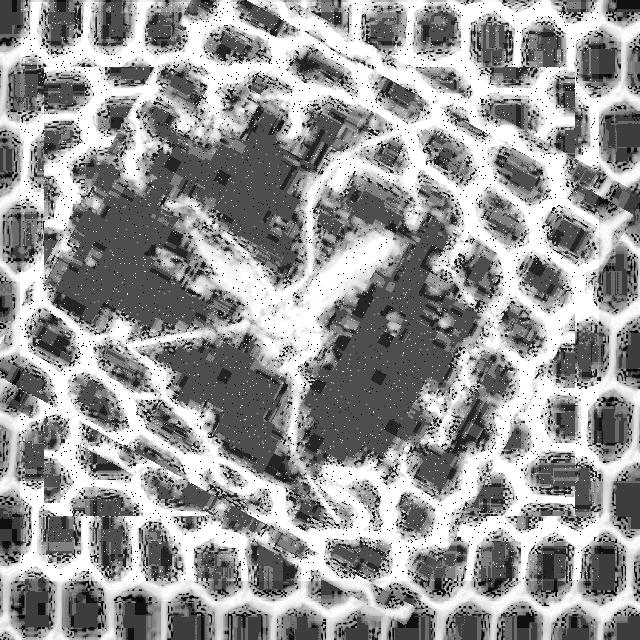anomaly-fence: (20, 2, 599, 581)
